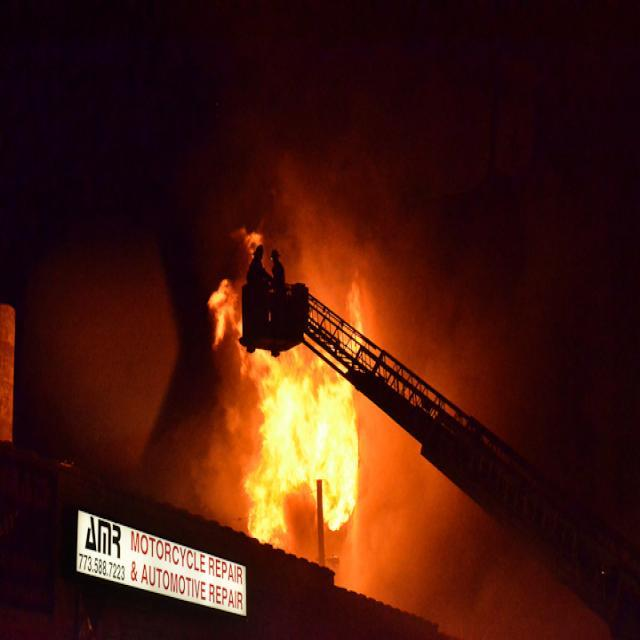Fire: (258, 350, 356, 512)
